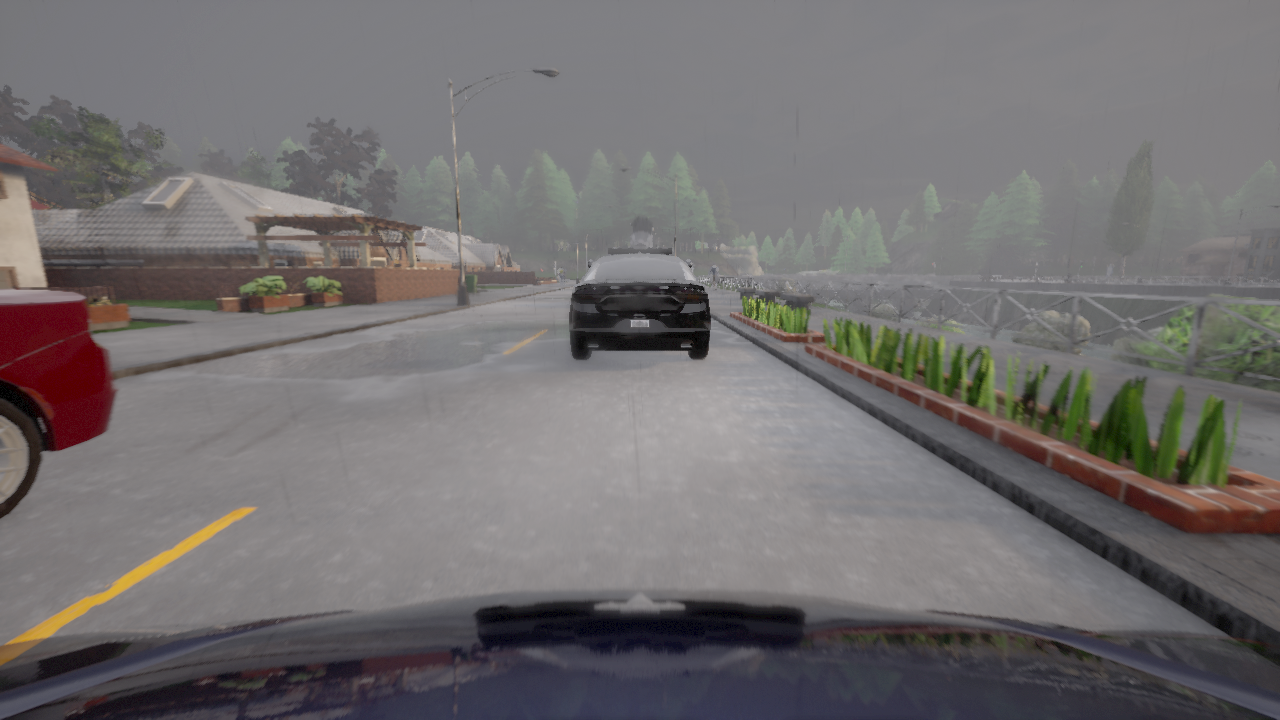cyclist: (0, 588, 1279, 719), (570, 247, 709, 358), (630, 216, 652, 248)
pedestrian: (709, 263, 718, 289), (558, 267, 563, 285), (562, 266, 566, 284)
